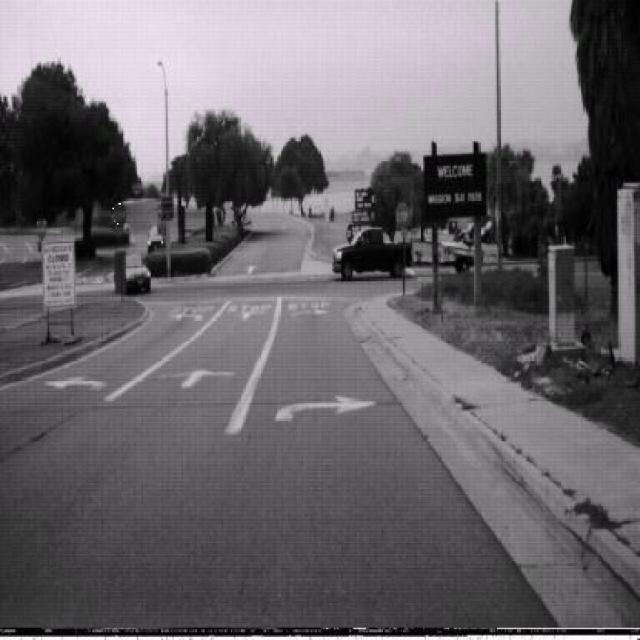stop: (112, 200, 128, 232), (397, 202, 412, 232)
